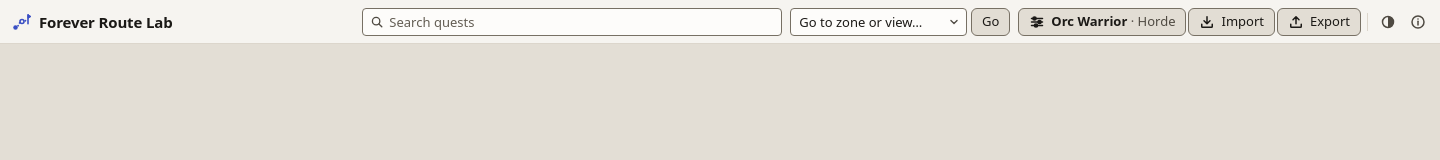
Test case: TopBar › cycles the theme preference
Click the button named "System theme" at (1388, 22), box [1374,8,1402,36]
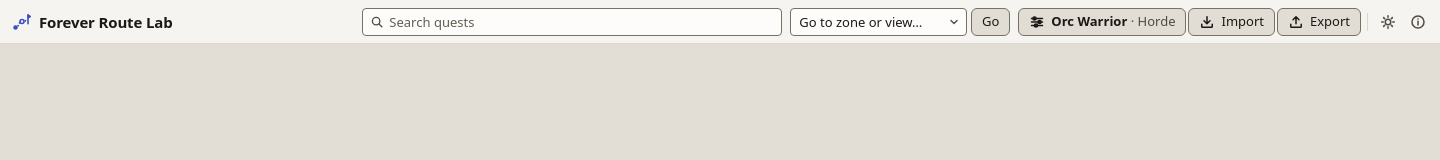
Click the button named "Light theme" at (1388, 22), box [1374,8,1402,36]
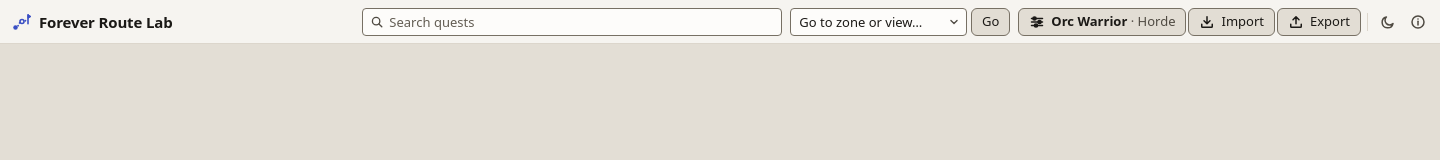
Expected: the button named "Dark theme. Switch to system theme" is shown, [1374,8,1402,36]
